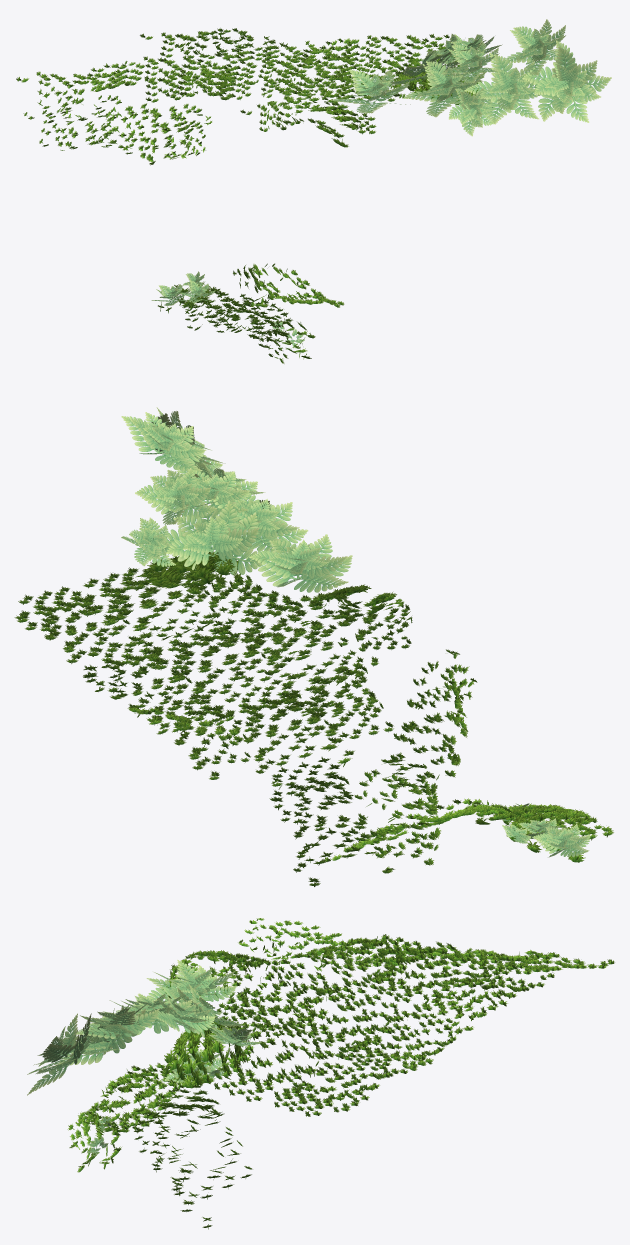
The model's file is plantas_isla_imposible.glb.
3 renders of one model, top to bottom at view 1: azimuth 30°, elevation 25°; view 2: azimuth 150°, elevation 25°; view 3: azimuth 270°, elevation 25°, orthographic. The views are drawn at different scales.
Visible parts, largest first — view 1: pastito_isla_imposible; view 2: pastito_isla_imposible, Helecho_1.050, pastito_barrio.5116; view 3: pastito_isla_imposible, Helecho_1.050, pastito_barrio.5051.
Part boxes in pixels (left/top/right/bottom): pastito_isla_imposible: left=16, top=28, right=484, bottom=363; pastito_isla_imposible: left=14, top=567, right=613, bottom=886; Helecho_1.050: left=121, top=517, right=176, bottom=566; pastito_barrio.5116: left=213, top=527, right=259, bottom=560; pastito_isla_imposible: left=67, top=918, right=614, bottom=1229; Helecho_1.050: left=208, top=1026, right=261, bottom=1046; pastito_barrio.5051: left=121, top=1009, right=159, bottom=1036.
Bounding box in the file's own units: 103 × 66.61 × 110.
Materials: 3 (3 with a texture image).
